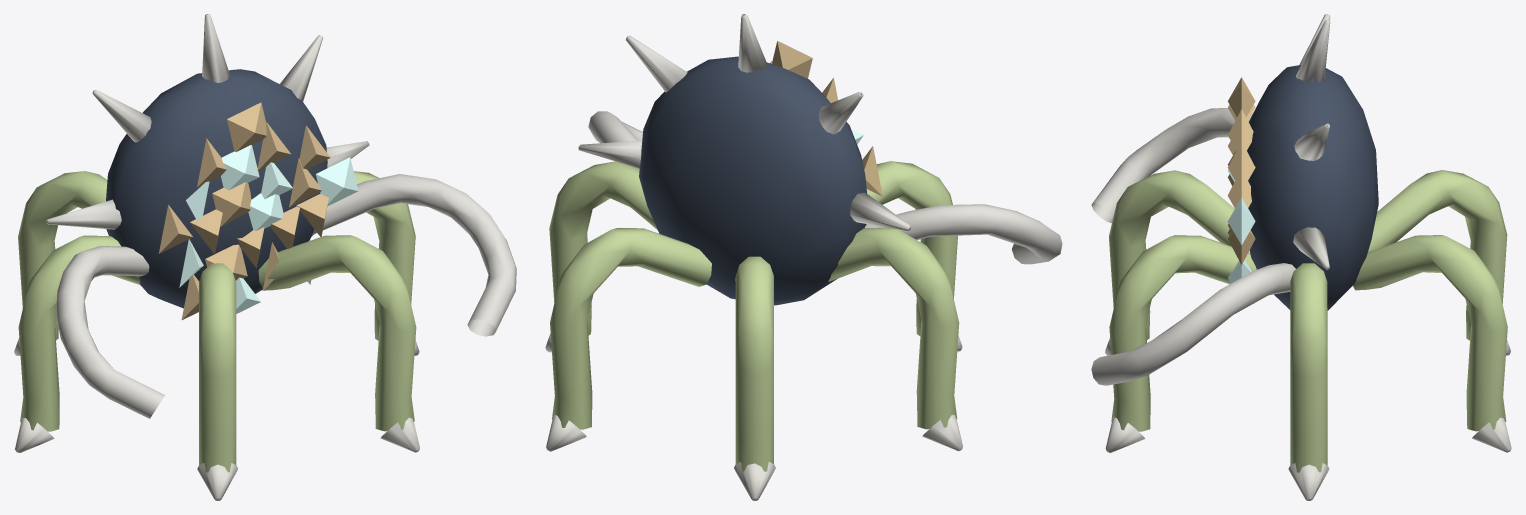
File: bio_crown_stalker_06_far.glb
The picture shows the model from 3 angles, left to right: view 1: azimuth 30°, elevation 25°; view 2: azimuth 150°, elevation 25°; view 3: azimuth 270°, elevation 25°; orthographic projection. The views are drawn at different scales.
Visible parts, largest first — view 1: Faceted crown substrate, Compound lens facet.001, Crooked support.004, Scythe sensory limb.001, Crooked support.003, Scythe sensory limb, Crooked support.002, Compound lens facet, Crown radiating blade, Crooked support.001, Crooked support.005, Contact spur.003 (+2 smaller); view 2: Faceted crown substrate, Crooked support, Crooked support.002, Crooked support.001, Crown radiating blade, Crooked support.005, Scythe sensory limb, Crooked support.003, Compound lens facet.001, Scythe sensory limb.001, Contact spur.001, Contact spur (+1 smaller); view 3: Faceted crown substrate, Crooked support, Crooked support.004, Crooked support.005, Crooked support.001, Crooked support.003, Scythe sensory limb.001, Scythe sensory limb, Crown radiating blade, Compound lens facet.001, Compound lens facet, Contact spur.005 (+2 smaller).
Boxes of the visible parts, bbox=[...] form: Faceted crown substrate: bbox=[106, 69, 327, 308]; Compound lens facet.001: bbox=[159, 102, 330, 319]; Crooked support.004: bbox=[258, 235, 416, 431]; Scythe sensory limb.001: bbox=[312, 174, 516, 336]; Crooked support.003: bbox=[199, 263, 236, 472]; Scythe sensory limb: bbox=[56, 246, 164, 418]; Crooked support.002: bbox=[18, 235, 140, 431]; Compound lens facet: bbox=[179, 145, 358, 313]; Crown radiating blade: bbox=[46, 14, 369, 229]; Crooked support.001: bbox=[18, 171, 107, 340]; Crooked support.005: bbox=[311, 171, 415, 340]; Contact spur.003: bbox=[197, 463, 237, 500]; Faceted crown substrate: bbox=[639, 56, 866, 305]; Crooked support: bbox=[550, 228, 711, 429]; Crooked support.002: bbox=[828, 227, 959, 429]; Crooked support.001: bbox=[735, 256, 773, 471]; Crown radiating blade: bbox=[578, 14, 910, 230]; Crooked support.005: bbox=[549, 161, 657, 335]; Scythe sensory limb: bbox=[865, 204, 1062, 264]; Crooked support.003: bbox=[866, 161, 957, 335]; Compound lens facet.001: bbox=[770, 41, 882, 196]; Scythe sensory limb.001: bbox=[588, 111, 642, 168]; Contact spur.001: bbox=[734, 462, 775, 500]; Contact spur: bbox=[546, 414, 586, 451]; Faceted crown substrate: bbox=[1247, 65, 1378, 310]; Crooked support: bbox=[1353, 235, 1507, 431]; Crooked support.004: bbox=[1109, 235, 1256, 431]; Crooked support.005: bbox=[1290, 263, 1327, 472]; Crooked support.001: bbox=[1368, 170, 1507, 340]; Crooked support.003: bbox=[1109, 170, 1234, 339]; Scythe sensory limb.001: bbox=[1091, 263, 1295, 385]; Scythe sensory limb: bbox=[1091, 108, 1252, 223]; Crown radiating blade: bbox=[1293, 14, 1330, 269]; Compound lens facet.001: bbox=[1227, 77, 1255, 265]; Compound lens facet: bbox=[1228, 122, 1255, 283]; Contact spur.005: bbox=[1288, 463, 1329, 500].
Bounding box in the file's own units: 2.59 × 2.16 × 2.14.
